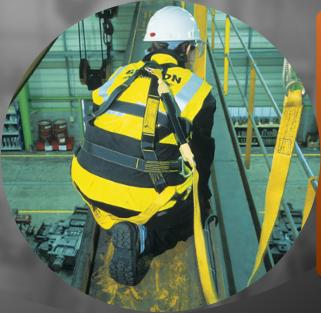Hard Hat: (141, 7, 205, 43)
High Viz: (76, 67, 206, 175)
